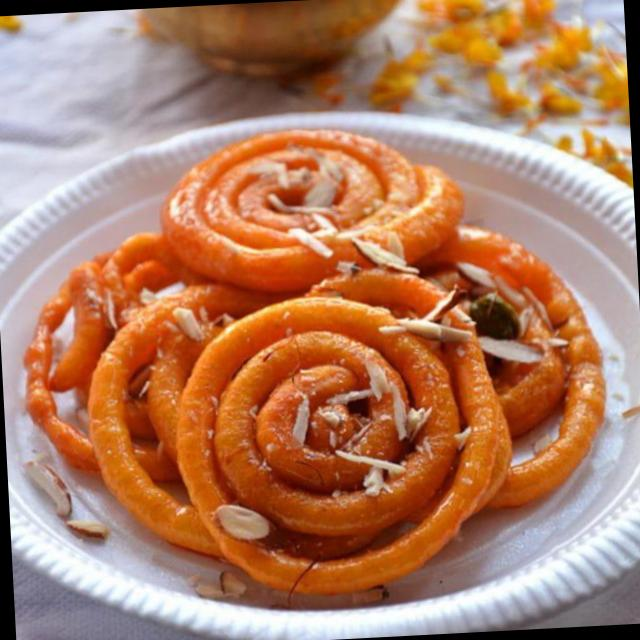jalebi: (3, 126, 605, 596)
